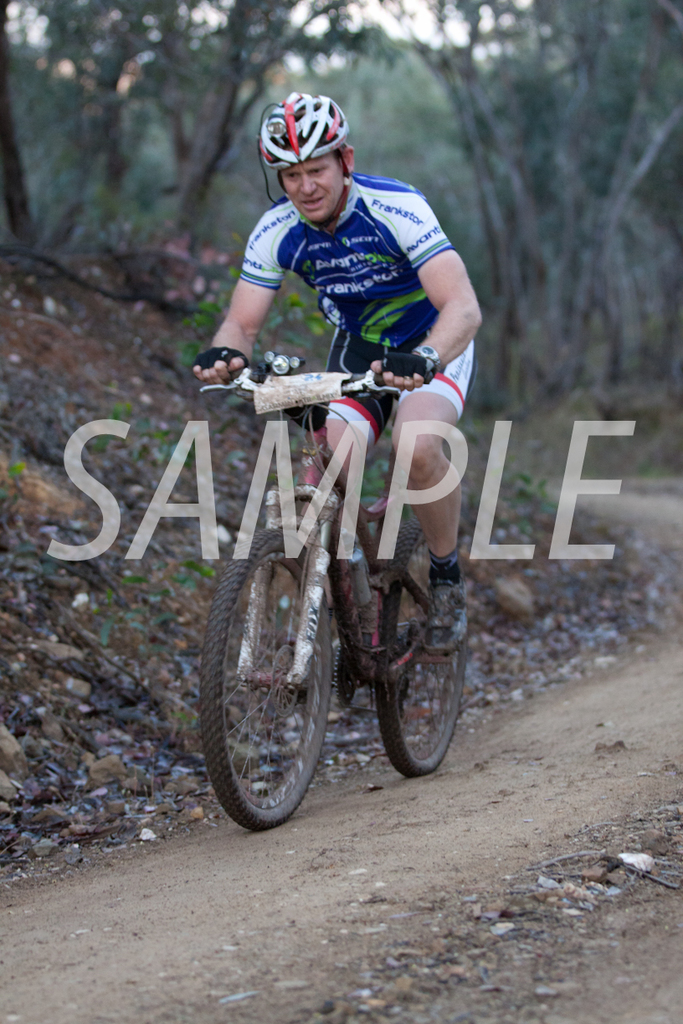Bike: (122, 364, 499, 788)
